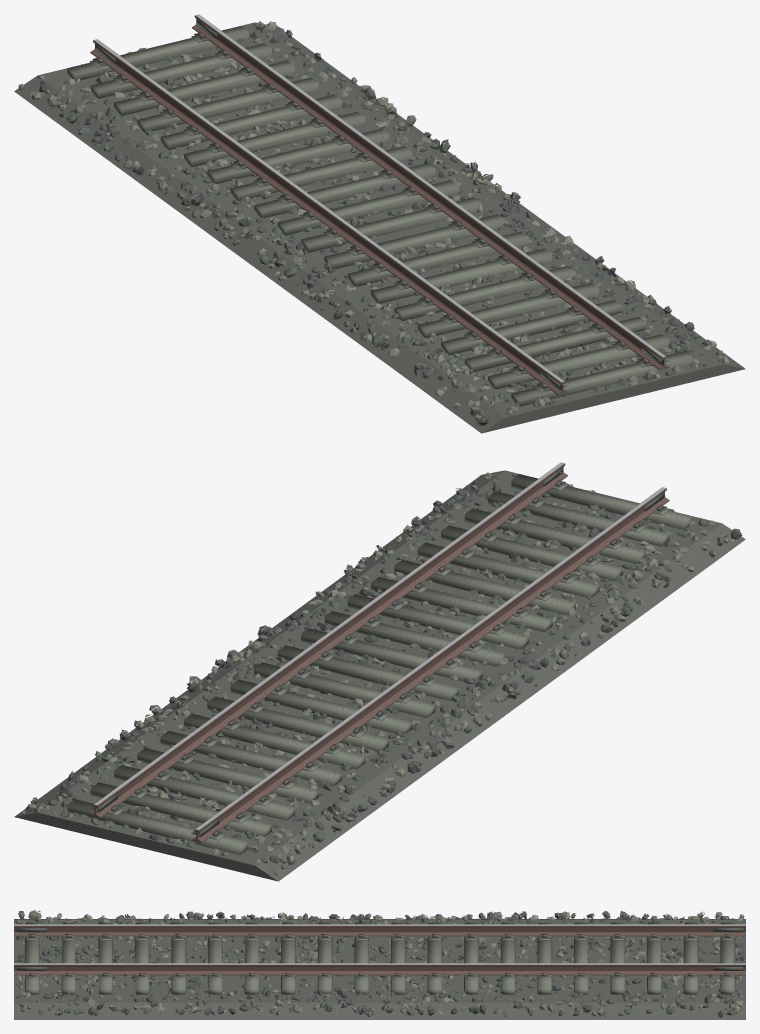
Rendered from railway-track.glb.
3 views of the same model, one above another, from view 1: azimuth 30°, elevation 25°; view 2: azimuth 150°, elevation 25°; view 3: azimuth 270°, elevation 25° (orthographic). The views are drawn at different scales.
Visible parts, largest first — view 1: hubtrace_StandardGaugeTrack12m_rail_ballast_base, hubtrace_StandardGaugeTrack12m_rail_prestressed_concrete, hubtrace_StandardGaugeTrack12m_rail_ballast_granite_0, hubtrace_StandardGaugeTrack12m_rail_weathered_oxide, hubtrace_StandardGaugeTrack12m_rail_polished_running_surface, hubtrace_StandardGaugeTrack12m_rail_forged_steel; view 2: hubtrace_StandardGaugeTrack12m_rail_ballast_base, hubtrace_StandardGaugeTrack12m_rail_prestressed_concrete, hubtrace_StandardGaugeTrack12m_rail_ballast_granite_0, hubtrace_StandardGaugeTrack12m_rail_weathered_oxide, hubtrace_StandardGaugeTrack12m_rail_polished_running_surface, hubtrace_StandardGaugeTrack12m_rail_forged_steel; view 3: hubtrace_StandardGaugeTrack12m_rail_ballast_base, hubtrace_StandardGaugeTrack12m_rail_ballast_granite_0, hubtrace_StandardGaugeTrack12m_rail_weathered_oxide, hubtrace_StandardGaugeTrack12m_rail_prestressed_concrete, hubtrace_StandardGaugeTrack12m_rail_polished_running_surface, hubtrace_StandardGaugeTrack12m_rail_forged_steel.
Boxes of the visible parts, x1,y1,x2,y2 form: hubtrace_StandardGaugeTrack12m_rail_ballast_base: (14, 22, 745, 433); hubtrace_StandardGaugeTrack12m_rail_prestressed_concrete: (67, 26, 692, 406); hubtrace_StandardGaugeTrack12m_rail_ballast_granite_0: (18, 21, 729, 425); hubtrace_StandardGaugeTrack12m_rail_weathered_oxide: (90, 15, 669, 394); hubtrace_StandardGaugeTrack12m_rail_polished_running_surface: (94, 14, 665, 382); hubtrace_StandardGaugeTrack12m_rail_forged_steel: (92, 20, 667, 391); hubtrace_StandardGaugeTrack12m_rail_ballast_base: (14, 470, 745, 881); hubtrace_StandardGaugeTrack12m_rail_prestressed_concrete: (67, 474, 692, 854); hubtrace_StandardGaugeTrack12m_rail_ballast_granite_0: (21, 471, 742, 875); hubtrace_StandardGaugeTrack12m_rail_weathered_oxide: (90, 463, 669, 842); hubtrace_StandardGaugeTrack12m_rail_polished_running_surface: (94, 462, 665, 830); hubtrace_StandardGaugeTrack12m_rail_forged_steel: (92, 468, 667, 839); hubtrace_StandardGaugeTrack12m_rail_ballast_base: (14, 919, 745, 1019); hubtrace_StandardGaugeTrack12m_rail_ballast_granite_0: (15, 910, 744, 1017); hubtrace_StandardGaugeTrack12m_rail_weathered_oxide: (14, 925, 745, 975); hubtrace_StandardGaugeTrack12m_rail_prestressed_concrete: (24, 922, 735, 994); hubtrace_StandardGaugeTrack12m_rail_polished_running_surface: (14, 924, 745, 964); hubtrace_StandardGaugeTrack12m_rail_forged_steel: (16, 928, 743, 977).
Size of the model in its own units: 3.96 by 0.4527 by 12.
9 materials, 9 textured.
